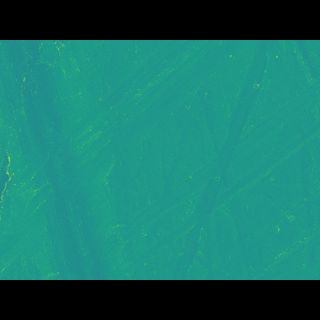Loch: (0, 69, 269, 250), (0, 70, 123, 250)
